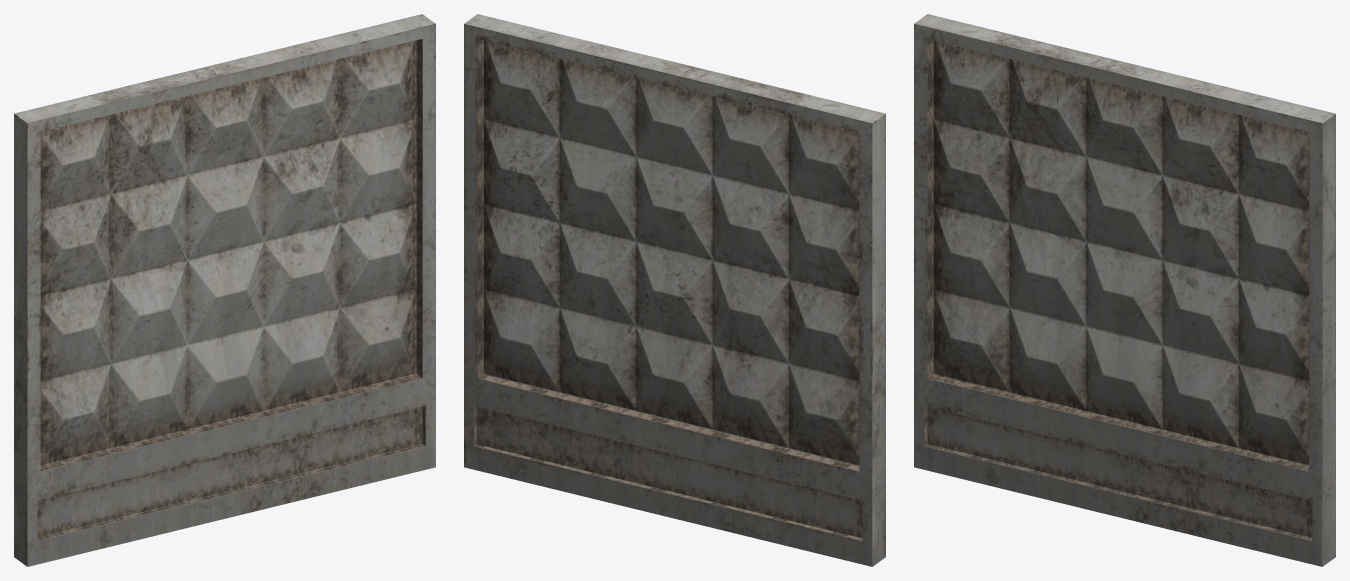
File: concrete_fence.glb
3 renders of one model, left to right at view 1: azimuth 30°, elevation 25°; view 2: azimuth 150°, elevation 25°; view 3: azimuth 330°, elevation 25°, orthographic.
Visible parts, largest first — view 1: Object_2; view 2: Object_2; view 3: Object_2.
Part boxes in pixels (x1=…): Object_2: x1=14, y1=14, x2=435, y2=566; Object_2: x1=464, y1=14, x2=885, y2=566; Object_2: x1=914, y1=14, x2=1335, y2=566.
Bounding box in the file's own units: 2.41 × 2.5 × 0.1376.
Materials: 1 (1 with a texture image).
